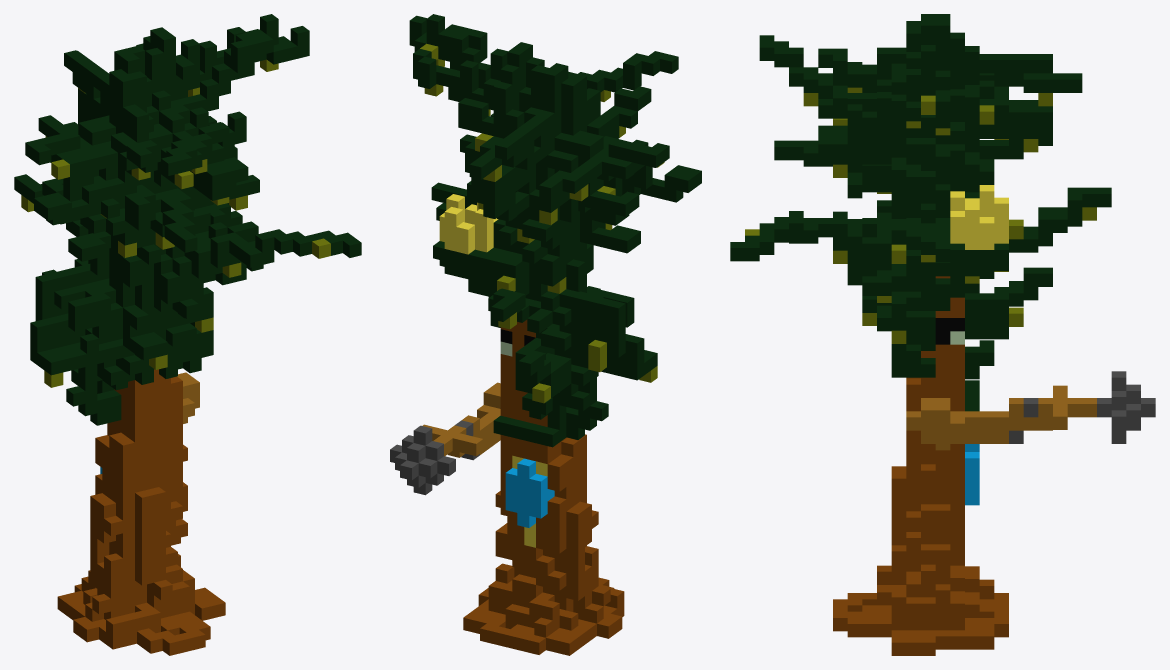
File: Maicol_Stiven_Torres_Rivas_fase_4.obj
3 views of the same model, side by side, from view 1: azimuth 30°, elevation 25°; view 2: azimuth 150°, elevation 25°; view 3: azimuth 270°, elevation 25° (orthographic). The views are drawn at different scales.
Visible parts, largest first — view 1: Maicol_Stiven_Torres_Rivas_fase_4; view 2: Maicol_Stiven_Torres_Rivas_fase_4; view 3: Maicol_Stiven_Torres_Rivas_fase_4.
Part boxes in pixels (x1,y1,x2,y2): Maicol_Stiven_Torres_Rivas_fase_4: (14, 14, 361, 655); Maicol_Stiven_Torres_Rivas_fase_4: (390, 14, 701, 655); Maicol_Stiven_Torres_Rivas_fase_4: (730, 14, 1155, 655).
Bounding box in the file's own units: 23 × 46 × 29.
Materials: 1 (1 with a texture image).
